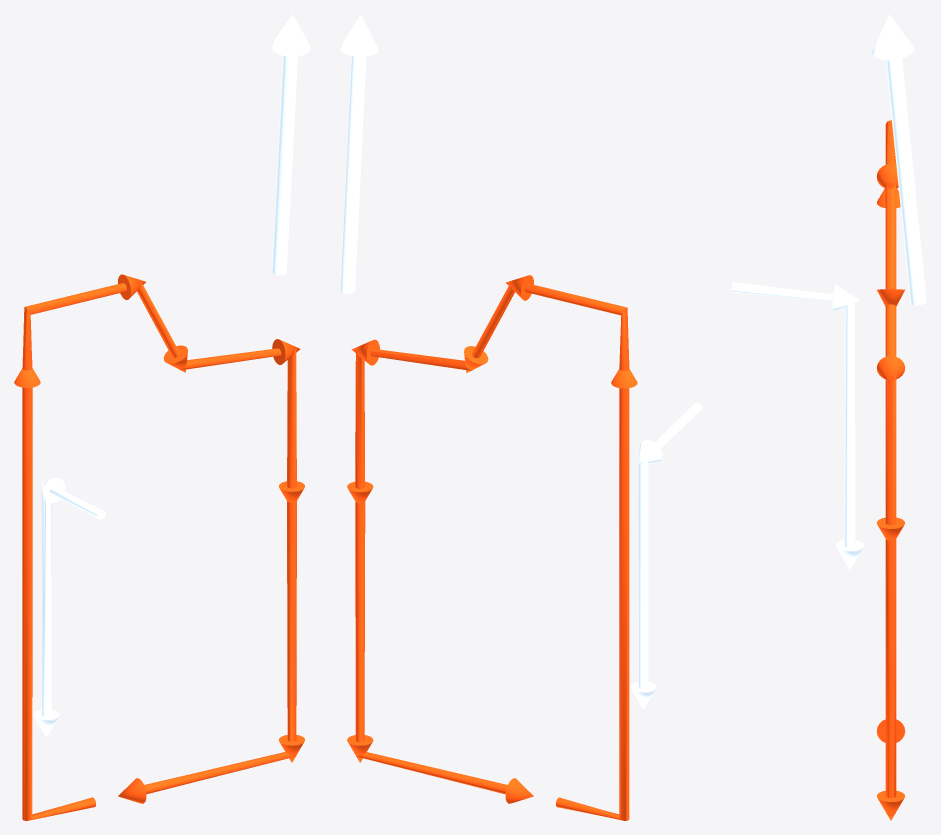
The model's file is forced_circulation_evaporator_flow.glb.
3 views of the same model, side by side, from view 1: azimuth 30°, elevation 25°; view 2: azimuth 150°, elevation 25°; view 3: azimuth 270°, elevation 25° (orthographic). The views are drawn at different scales.
Visible parts, largest first — view 1: circulation, vapour, heating_steam; view 2: circulation, vapour, heating_steam; view 3: circulation, vapour, heating_steam.
Part boxes in pixels (box(x1,y1,x2,y2)): circulation: box(14, 274, 304, 820); vapour: box(271, 14, 310, 275); heating_steam: box(33, 477, 105, 737); circulation: box(347, 275, 637, 820); vapour: box(339, 14, 378, 293); heating_steam: box(630, 403, 702, 709); circulation: box(876, 120, 905, 820); vapour: box(872, 14, 926, 305); heating_steam: box(731, 282, 863, 569).
Size of the model in its own units: 1.33 by 3.26 by 0.7122.
